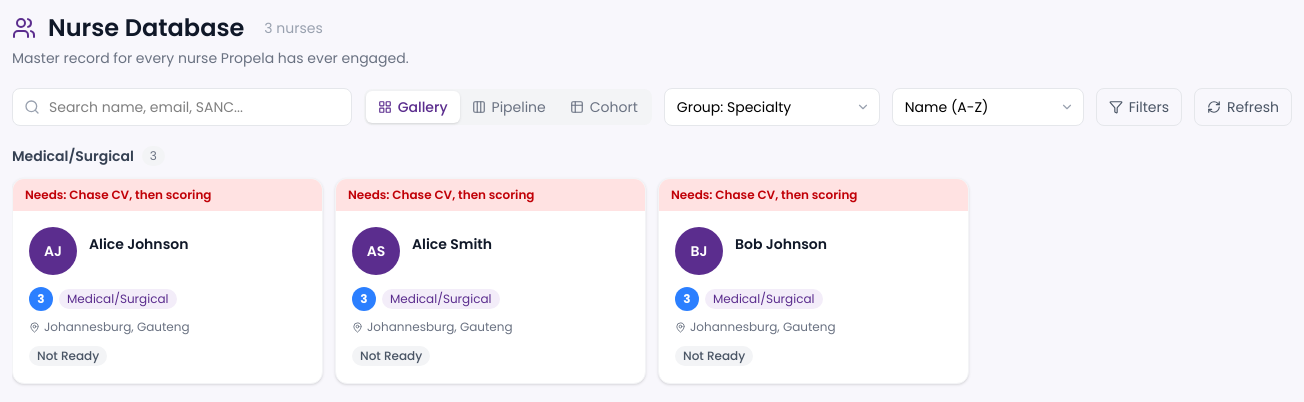
Test: Filter and search integration tests › Filter updates displayed results › combining search and filter narrows results
This screenshot has width=1304, height=402.
Search for Alice (matches 2)
In the field with placeholder "Search name, email, SANC...": (182, 107) [12,88,352,126], type "Alice"
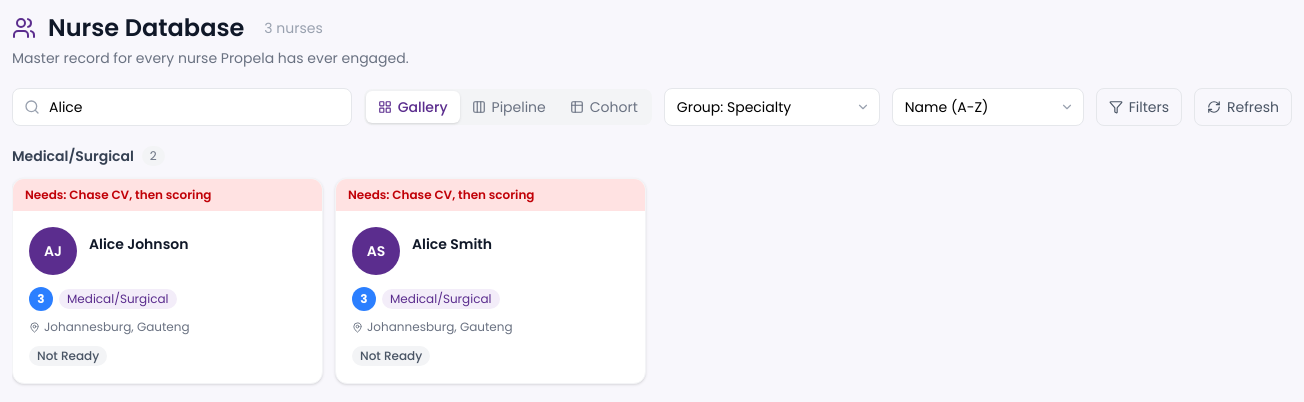
Expected: the text "Bob Johnson" is gone
